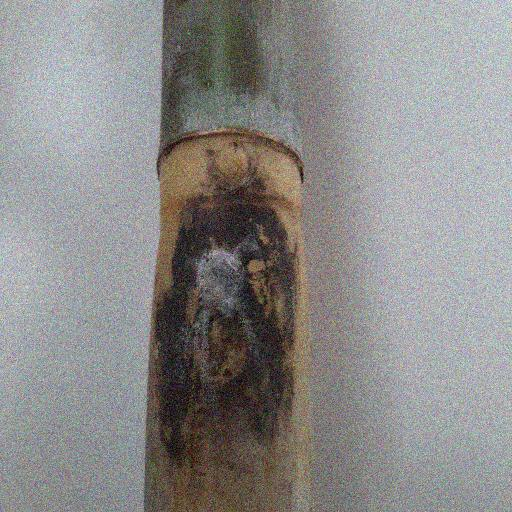Bud: (212, 139, 251, 190)
